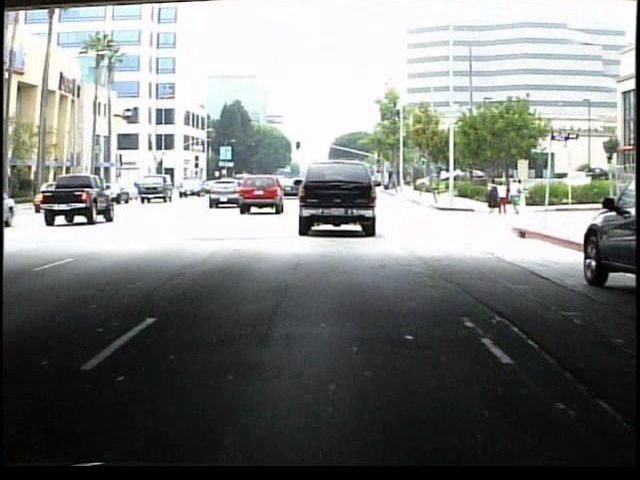person: (510, 177, 526, 217), (485, 178, 499, 216), (497, 180, 510, 216)
